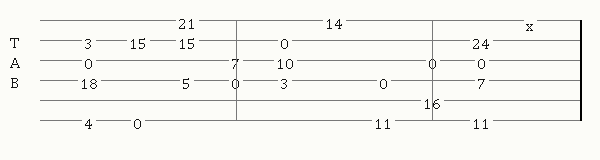0: (84, 53, 97, 67), (133, 113, 146, 127), (231, 73, 244, 87), (280, 33, 293, 47), (379, 73, 392, 87), (428, 53, 441, 67), (477, 53, 490, 67)
10: (276, 53, 298, 67)
11: (374, 113, 396, 127), (472, 113, 494, 127)
14: (325, 13, 347, 27)
15: (129, 33, 151, 48), (178, 33, 200, 48)
16: (423, 93, 445, 107)
18: (80, 73, 102, 87)
21: (178, 13, 200, 27)
24: (472, 33, 494, 47)
3: (84, 33, 97, 47), (280, 73, 293, 87)
4: (84, 113, 97, 127)
5: (182, 73, 195, 88)
7: (231, 53, 244, 67), (477, 73, 490, 87)
x: (526, 15, 538, 26)
